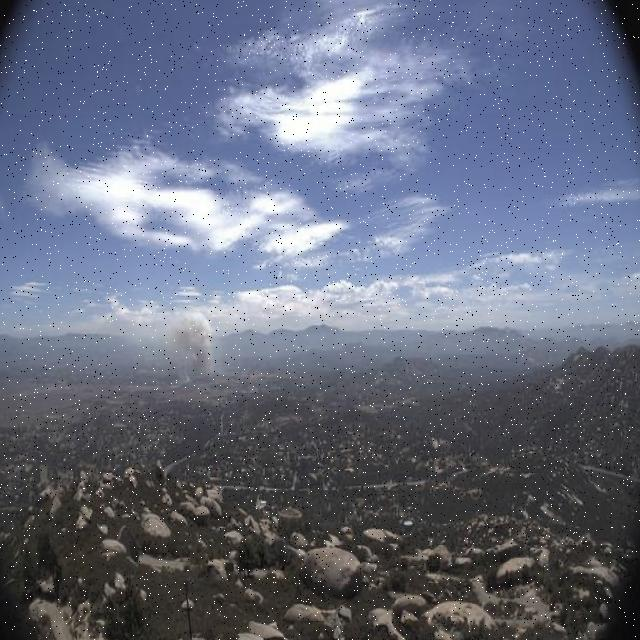smoke: (153, 307, 223, 389)
